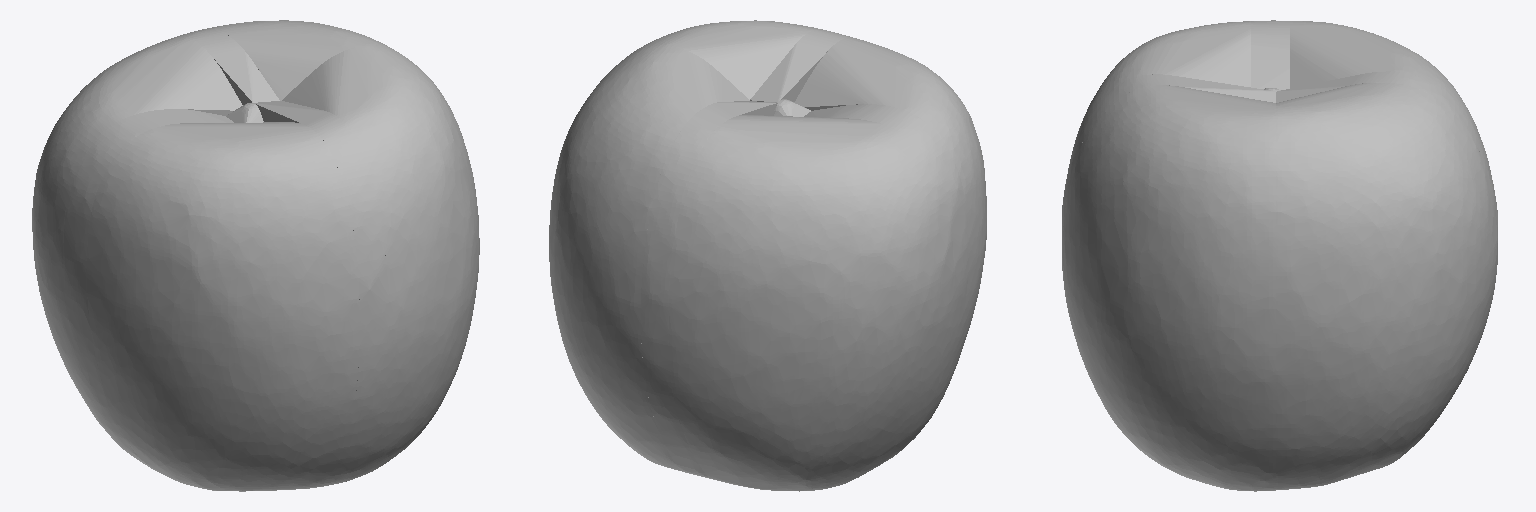
URDF robot description (root):
<robot name="root">
  <link name="link_coacd_convex_piece_0">
    <inertial>
      <origin xyz="0 0 0" rpy="0 0 0"/>
      <inertia ixx="1.89E-01" ixy="6.81E-02" ixz="7.10E-03" iyy="1.94E-01" iyz="-5.68E-03" izz="1.98E-01"/>
    </inertial>
    <visual>
      <origin xyz="0 0 0" rpy="0 0 0"/>
      <geometry>
        <mesh filename="coacd_convex_piece_0.obj" scale="1.0000E+00 1.0000E+00 1.0000E+00"/>
      </geometry>
      <material name="">
        <color rgba="7.50E-01 7.50E-01 7.50E-01 1"/>
      </material>
    </visual>
    <collision>
      <origin xyz="0 0 0" rpy="0 0 0"/>
      <geometry>
        <mesh filename="coacd_convex_piece_0.obj" scale="1.0000E+00 1.0000E+00 1.0000E+00"/>
      </geometry>
    </collision>
  </link>
  <link name="link_coacd_convex_piece_1">
    <inertial>
      <origin xyz="0 0 0" rpy="0 0 0"/>
      <inertia ixx="5.26E-02" ixy="1.96E-03" ixz="4.30E-05" iyy="2.37E-02" iyz="3.64E-04" izz="2.95E-02"/>
    </inertial>
    <visual>
      <origin xyz="0 0 0" rpy="0 0 0"/>
      <geometry>
        <mesh filename="coacd_convex_piece_1.obj" scale="1.0000E+00 1.0000E+00 1.0000E+00"/>
      </geometry>
      <material name="">
        <color rgba="7.50E-01 7.50E-01 7.50E-01 1"/>
      </material>
    </visual>
    <collision>
      <origin xyz="0 0 0" rpy="0 0 0"/>
      <geometry>
        <mesh filename="coacd_convex_piece_1.obj" scale="1.0000E+00 1.0000E+00 1.0000E+00"/>
      </geometry>
    </collision>
  </link>
  <joint name="link_coacd_convex_piece_1_joint" type="fixed">
    <origin xyz="0 0 0" rpy="0 0 0"/>
    <parent link="link_coacd_convex_piece_0"/>
    <child link="link_coacd_convex_piece_1"/>
  </joint>
  <link name="link_coacd_convex_piece_2">
    <inertial>
      <origin xyz="0 0 0" rpy="0 0 0"/>
      <inertia ixx="4.94E-02" ixy="-1.73E-03" ixz="-3.43E-05" iyy="2.29E-02" iyz="-1.28E-03" izz="2.71E-02"/>
    </inertial>
    <visual>
      <origin xyz="0 0 0" rpy="0 0 0"/>
      <geometry>
        <mesh filename="coacd_convex_piece_2.obj" scale="1.0000E+00 1.0000E+00 1.0000E+00"/>
      </geometry>
      <material name="">
        <color rgba="7.50E-01 7.50E-01 7.50E-01 1"/>
      </material>
    </visual>
    <collision>
      <origin xyz="0 0 0" rpy="0 0 0"/>
      <geometry>
        <mesh filename="coacd_convex_piece_2.obj" scale="1.0000E+00 1.0000E+00 1.0000E+00"/>
      </geometry>
    </collision>
  </link>
  <joint name="link_coacd_convex_piece_2_joint" type="fixed">
    <origin xyz="0 0 0" rpy="0 0 0"/>
    <parent link="link_coacd_convex_piece_1"/>
    <child link="link_coacd_convex_piece_2"/>
  </joint>
  <link name="link_coacd_convex_piece_3">
    <inertial>
      <origin xyz="0 0 0" rpy="0 0 0"/>
      <inertia ixx="1.79E-01" ixy="-6.43E-02" ixz="7.87E-03" iyy="1.59E-01" iyz="7.23E-03" izz="1.78E-01"/>
    </inertial>
    <visual>
      <origin xyz="0 0 0" rpy="0 0 0"/>
      <geometry>
        <mesh filename="coacd_convex_piece_3.obj" scale="1.0000E+00 1.0000E+00 1.0000E+00"/>
      </geometry>
      <material name="">
        <color rgba="7.50E-01 7.50E-01 7.50E-01 1"/>
      </material>
    </visual>
    <collision>
      <origin xyz="0 0 0" rpy="0 0 0"/>
      <geometry>
        <mesh filename="coacd_convex_piece_3.obj" scale="1.0000E+00 1.0000E+00 1.0000E+00"/>
      </geometry>
    </collision>
  </link>
  <joint name="link_coacd_convex_piece_3_joint" type="fixed">
    <origin xyz="0 0 0" rpy="0 0 0"/>
    <parent link="link_coacd_convex_piece_2"/>
    <child link="link_coacd_convex_piece_3"/>
  </joint>
  <link name="link_coacd_convex_piece_4">
    <inertial>
      <origin xyz="0 0 0" rpy="0 0 0"/>
      <inertia ixx="1.87E-01" ixy="-6.98E-02" ixz="-8.16E-03" iyy="2.15E-01" iyz="-7.18E-03" izz="2.04E-01"/>
    </inertial>
    <visual>
      <origin xyz="0 0 0" rpy="0 0 0"/>
      <geometry>
        <mesh filename="coacd_convex_piece_4.obj" scale="1.0000E+00 1.0000E+00 1.0000E+00"/>
      </geometry>
      <material name="">
        <color rgba="7.50E-01 7.50E-01 7.50E-01 1"/>
      </material>
    </visual>
    <collision>
      <origin xyz="0 0 0" rpy="0 0 0"/>
      <geometry>
        <mesh filename="coacd_convex_piece_4.obj" scale="1.0000E+00 1.0000E+00 1.0000E+00"/>
      </geometry>
    </collision>
  </link>
  <joint name="link_coacd_convex_piece_4_joint" type="fixed">
    <origin xyz="0 0 0" rpy="0 0 0"/>
    <parent link="link_coacd_convex_piece_3"/>
    <child link="link_coacd_convex_piece_4"/>
  </joint>
  <link name="link_coacd_convex_piece_5">
    <inertial>
      <origin xyz="0 0 0" rpy="0 0 0"/>
      <inertia ixx="1.84E-01" ixy="6.96E-02" ixz="-5.29E-03" iyy="2.07E-01" iyz="4.01E-03" izz="1.98E-01"/>
    </inertial>
    <visual>
      <origin xyz="0 0 0" rpy="0 0 0"/>
      <geometry>
        <mesh filename="coacd_convex_piece_5.obj" scale="1.0000E+00 1.0000E+00 1.0000E+00"/>
      </geometry>
      <material name="">
        <color rgba="7.50E-01 7.50E-01 7.50E-01 1"/>
      </material>
    </visual>
    <collision>
      <origin xyz="0 0 0" rpy="0 0 0"/>
      <geometry>
        <mesh filename="coacd_convex_piece_5.obj" scale="1.0000E+00 1.0000E+00 1.0000E+00"/>
      </geometry>
    </collision>
  </link>
  <joint name="link_coacd_convex_piece_5_joint" type="fixed">
    <origin xyz="0 0 0" rpy="0 0 0"/>
    <parent link="link_coacd_convex_piece_4"/>
    <child link="link_coacd_convex_piece_5"/>
  </joint>
  <link name="link_coacd_convex_piece_6">
    <inertial>
      <origin xyz="0 0 0" rpy="0 0 0"/>
      <inertia ixx="2.60E-03" ixy="-5.17E-05" ixz="-7.51E-06" iyy="2.66E-03" iyz="-7.61E-06" izz="1.72E-04"/>
    </inertial>
    <visual>
      <origin xyz="0 0 0" rpy="0 0 0"/>
      <geometry>
        <mesh filename="coacd_convex_piece_6.obj" scale="1.0000E+00 1.0000E+00 1.0000E+00"/>
      </geometry>
      <material name="">
        <color rgba="7.50E-01 7.50E-01 7.50E-01 1"/>
      </material>
    </visual>
    <collision>
      <origin xyz="0 0 0" rpy="0 0 0"/>
      <geometry>
        <mesh filename="coacd_convex_piece_6.obj" scale="1.0000E+00 1.0000E+00 1.0000E+00"/>
      </geometry>
    </collision>
  </link>
  <joint name="link_coacd_convex_piece_6_joint" type="fixed">
    <origin xyz="0 0 0" rpy="0 0 0"/>
    <parent link="link_coacd_convex_piece_5"/>
    <child link="link_coacd_convex_piece_6"/>
  </joint>
  <link name="link_coacd_convex_piece_7">
    <inertial>
      <origin xyz="0 0 0" rpy="0 0 0"/>
      <inertia ixx="2.24E-02" ixy="-2.32E-03" ixz="1.26E-03" iyy="5.47E-02" iyz="-1.22E-05" izz="3.32E-02"/>
    </inertial>
    <visual>
      <origin xyz="0 0 0" rpy="0 0 0"/>
      <geometry>
        <mesh filename="coacd_convex_piece_7.obj" scale="1.0000E+00 1.0000E+00 1.0000E+00"/>
      </geometry>
      <material name="">
        <color rgba="7.50E-01 7.50E-01 7.50E-01 1"/>
      </material>
    </visual>
    <collision>
      <origin xyz="0 0 0" rpy="0 0 0"/>
      <geometry>
        <mesh filename="coacd_convex_piece_7.obj" scale="1.0000E+00 1.0000E+00 1.0000E+00"/>
      </geometry>
    </collision>
  </link>
  <joint name="link_coacd_convex_piece_7_joint" type="fixed">
    <origin xyz="0 0 0" rpy="0 0 0"/>
    <parent link="link_coacd_convex_piece_6"/>
    <child link="link_coacd_convex_piece_7"/>
  </joint>
</robot>

--- What the picture shows (computed from the rendered views, not written in the file) ---
The picture shows the robot from 3 angles, left to right: view 1: azimuth 30°, elevation 25°; view 2: azimuth 150°, elevation 25°; view 3: azimuth 270°, elevation 25°; orthographic projection.
Model root with 8 links and 7 joints (7 fixed), rooted at link_coacd_convex_piece_0, posed all joints at 0.
Links seen in each view (by area): view 1: link_coacd_convex_piece_3, link_coacd_convex_piece_5, link_coacd_convex_piece_0, link_coacd_convex_piece_1, link_coacd_convex_piece_7, link_coacd_convex_piece_4, link_coacd_convex_piece_2; view 2: link_coacd_convex_piece_0, link_coacd_convex_piece_4, link_coacd_convex_piece_3, link_coacd_convex_piece_2, link_coacd_convex_piece_7, link_coacd_convex_piece_5, link_coacd_convex_piece_1; view 3: link_coacd_convex_piece_4, link_coacd_convex_piece_5, link_coacd_convex_piece_0, link_coacd_convex_piece_3, link_coacd_convex_piece_1, link_coacd_convex_piece_7, link_coacd_convex_piece_2.
Boxes of the visible links, <box> form: link_coacd_convex_piece_3: <box>86,122,359,491</box>; link_coacd_convex_piece_5: <box>282,45,479,481</box>; link_coacd_convex_piece_0: <box>32,36,242,439</box>; link_coacd_convex_piece_1: <box>254,101,387,487</box>; link_coacd_convex_piece_7: <box>63,109,233,468</box>; link_coacd_convex_piece_4: <box>207,20,393,100</box>; link_coacd_convex_piece_2: <box>180,28,279,104</box>; link_coacd_convex_piece_0: <box>669,115,953,491</box>; link_coacd_convex_piece_4: <box>549,45,749,471</box>; link_coacd_convex_piece_3: <box>794,37,986,439</box>; link_coacd_convex_piece_2: <box>641,101,777,478</box>; link_coacd_convex_piece_7: <box>804,104,968,457</box>; link_coacd_convex_piece_5: <box>627,20,817,99</box>; link_coacd_convex_piece_1: <box>750,29,849,102</box>; link_coacd_convex_piece_4: <box>1276,83,1497,489</box>; link_coacd_convex_piece_5: <box>1063,85,1275,491</box>; link_coacd_convex_piece_0: <box>1290,21,1490,170</box>; link_coacd_convex_piece_3: <box>1068,21,1250,168</box>; link_coacd_convex_piece_1: <box>1062,74,1275,328</box>; link_coacd_convex_piece_7: <box>1251,20,1289,89</box>; link_coacd_convex_piece_2: <box>1276,71,1497,289</box>.
Size in the robot's own frame: 1.7 by 1.69 by 1.63 metres.
8 mesh visuals loaded from 8 distinct referenced files (8 OBJ).